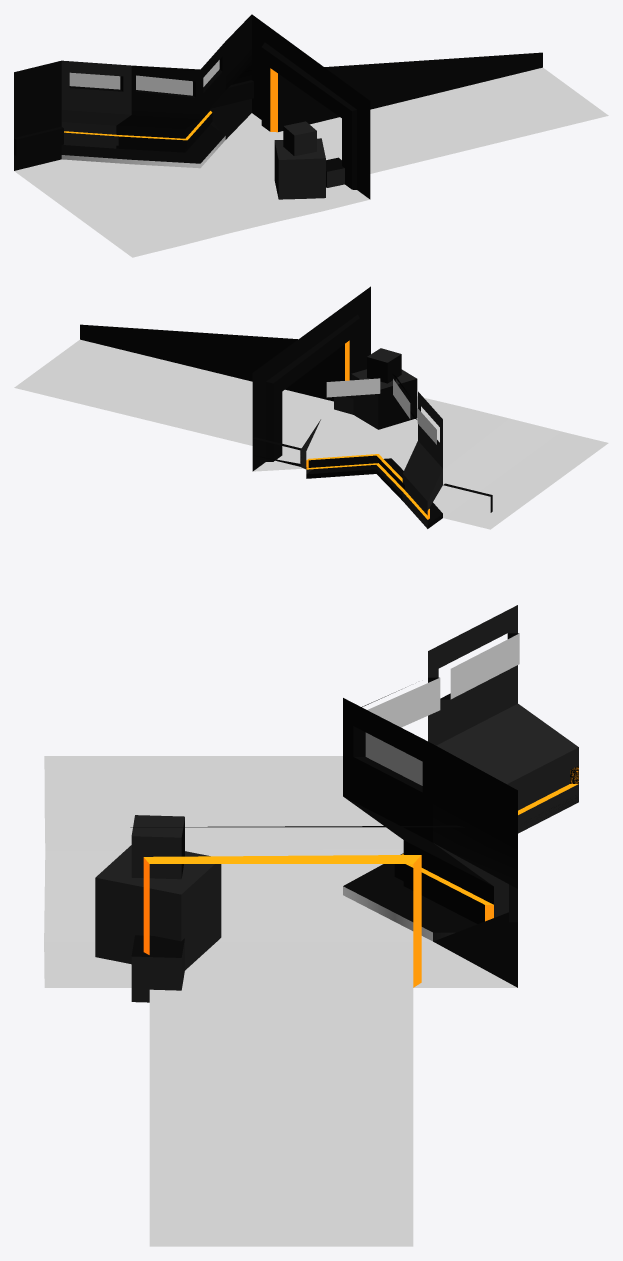
File: 3Tile3.fbx
3 renders of one model, top to bottom at view 1: azimuth 30°, elevation 25°; view 2: azimuth 150°, elevation 25°; view 3: azimuth 270°, elevation 25°, orthographic. The views are drawn at different scales.
Visible parts, largest first — view 1: Plane, Cube.027, Cube.031, Cube.032; view 2: Plane, Cube.027, Cube.031; view 3: Plane, Cube.027, Cube.031, Cube.032.
Boxes of the visible parts, <box> form: Plane: <box>14,14,608,257</box>; Cube.027: <box>274,138,325,199</box>; Cube.031: <box>283,121,316,156</box>; Cube.032: <box>326,157,344,187</box>; Plane: <box>14,286,608,529</box>; Cube.027: <box>351,369,417,429</box>; Cube.031: <box>367,348,401,383</box>; Plane: <box>44,605,578,1246</box>; Cube.027: <box>95,845,221,970</box>; Cube.031: <box>131,815,184,879</box>; Cube.032: <box>131,935,184,1002</box>.
Size of the model in its own units: 18926 by 3784 by 8720.
